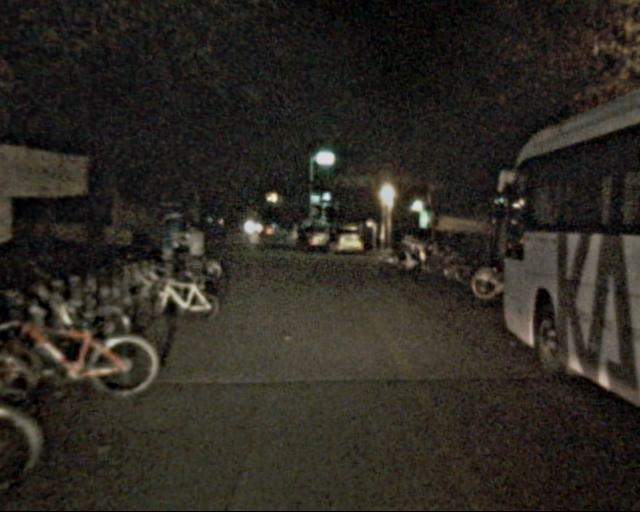person: (180, 219, 212, 296), (325, 223, 339, 258), (295, 224, 309, 257)
